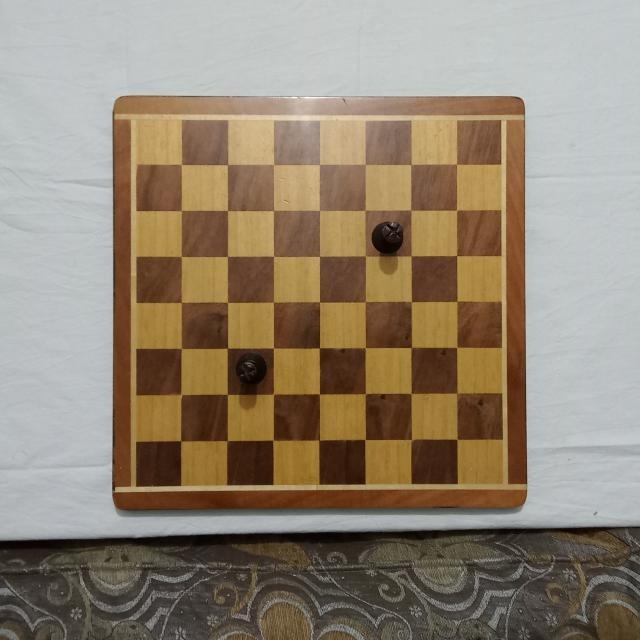black-rook: (370, 219, 405, 254), (233, 353, 267, 387)
